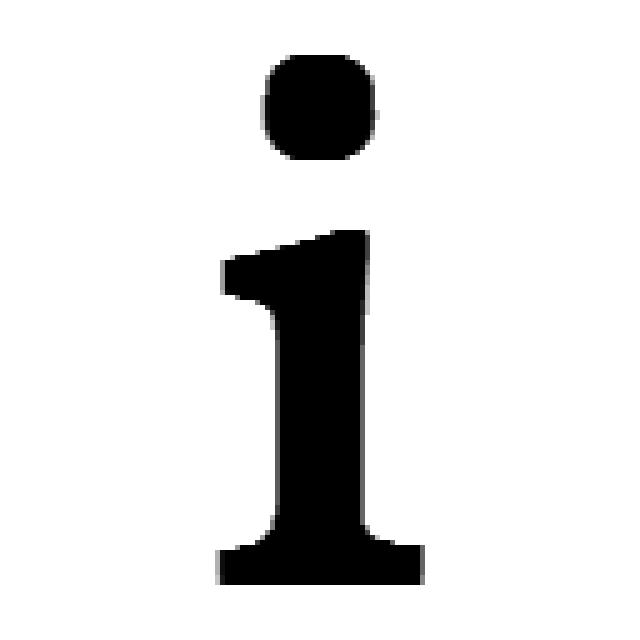I: (212, 56, 433, 590)
